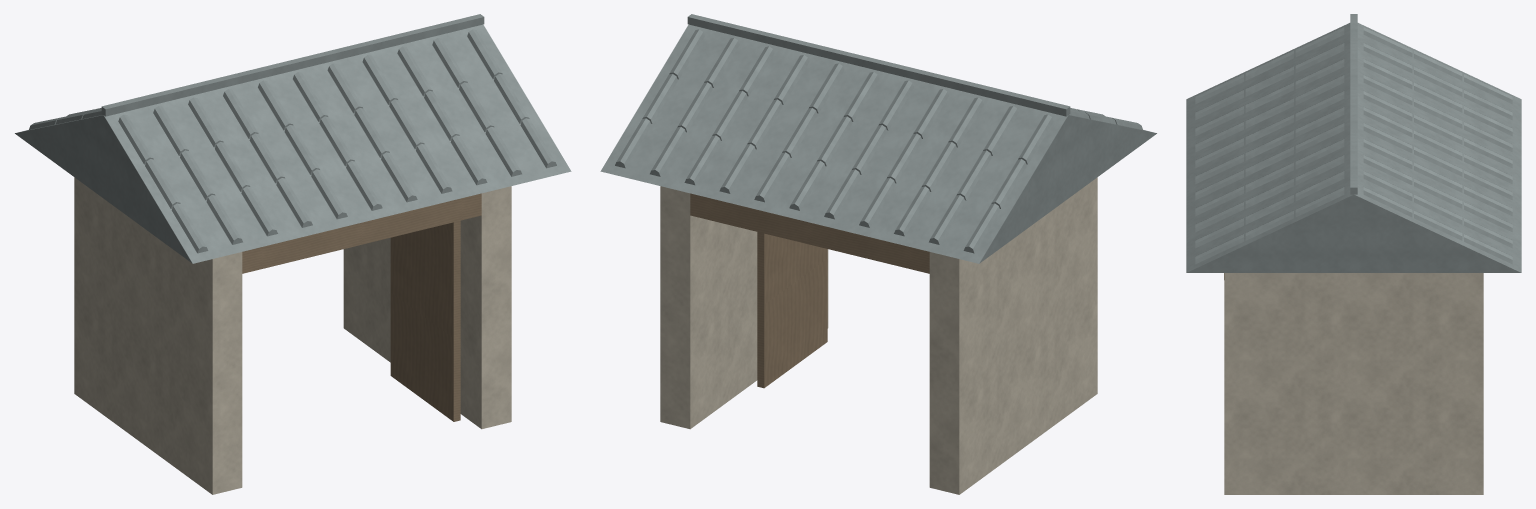
Rendered from gate-far-local-C2.glb.
3 views of the same model, side by side, from view 1: azimuth 30°, elevation 25°; view 2: azimuth 150°, elevation 25°; view 3: azimuth 270°, elevation 25° (orthographic). The views are drawn at different scales.
Parts seen in each view (by area): view 1: original_gate_C02-010__architecture_C_roof_rhythm_not_glaze_, original_gate_C02-010__architecture_C_whitebox_earth_wall.00, original_gate_C02-010__architecture_C_plain_timber.001; view 2: original_gate_C02-010__architecture_C_roof_rhythm_not_glaze_, original_gate_C02-010__architecture_C_whitebox_earth_wall.00, original_gate_C02-010__architecture_C_plain_timber.001; view 3: original_gate_C02-010__architecture_C_roof_rhythm_not_glaze_, original_gate_C02-010__architecture_C_whitebox_earth_wall.00.
Boxes of the visible parts, bbox=[...] form: original_gate_C02-010__architecture_C_roof_rhythm_not_glaze_: bbox=[15, 14, 571, 263]; original_gate_C02-010__architecture_C_whitebox_earth_wall.00: bbox=[74, 177, 511, 494]; original_gate_C02-010__architecture_C_plain_timber.001: bbox=[242, 193, 481, 421]; original_gate_C02-010__architecture_C_roof_rhythm_not_glaze_: bbox=[600, 14, 1156, 263]; original_gate_C02-010__architecture_C_whitebox_earth_wall.00: bbox=[660, 177, 1097, 494]; original_gate_C02-010__architecture_C_plain_timber.001: bbox=[690, 193, 929, 388]; original_gate_C02-010__architecture_C_roof_rhythm_not_glaze_: bbox=[1186, 14, 1521, 272]; original_gate_C02-010__architecture_C_whitebox_earth_wall.00: bbox=[1224, 273, 1483, 494].
Size of the model in its own units: 3.8 by 3.32 by 3.1.
3 materials, 3 textured.
